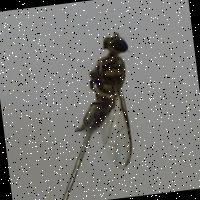Oriental-fruit-fly: (42, 26, 161, 180)
